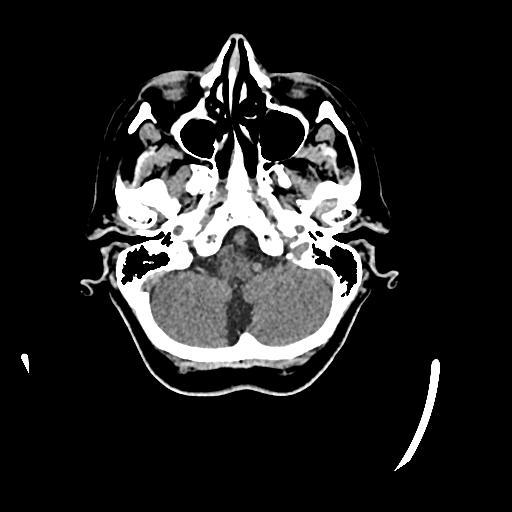Normal_Brain: (70, 43, 403, 406)
